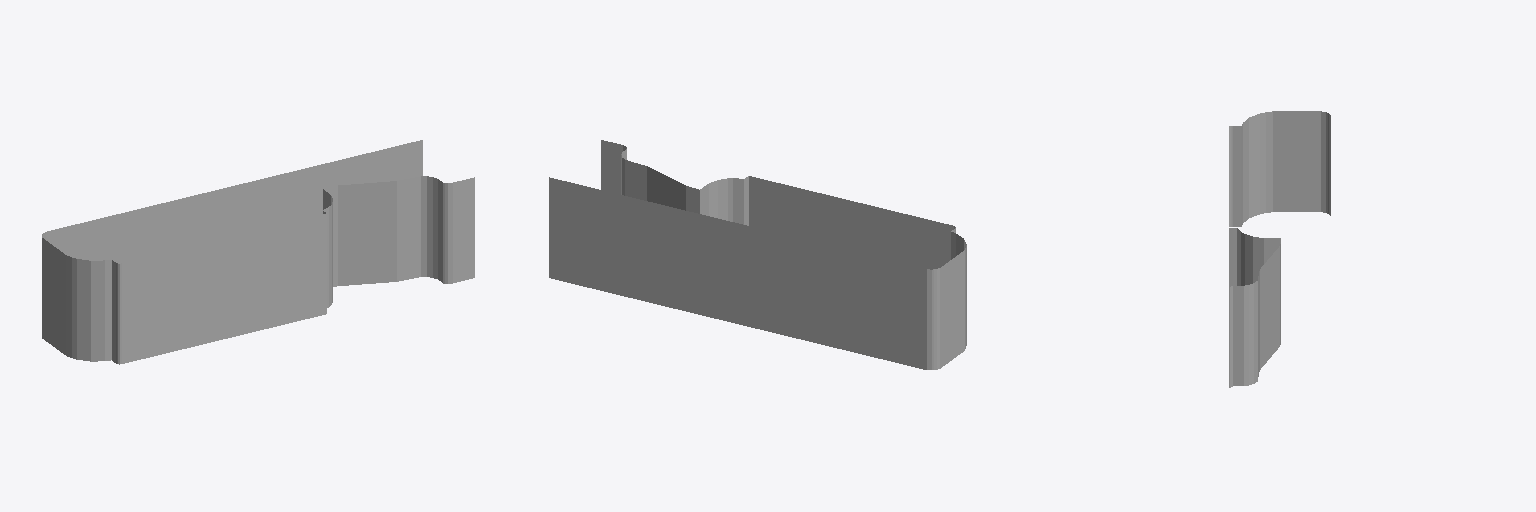
The model's file is original-73.obj.
3 renders of one model, left to right at view 1: azimuth 30°, elevation 25°; view 2: azimuth 150°, elevation 25°; view 3: azimuth 270°, elevation 25°, orthographic.
Parts seen in each view (by area): view 1: DF_11_CL2/DF_11_CL/mesh30/mesh30-geometry#mesh30-geometry; view 2: DF_11_CL2/DF_11_CL/mesh30/mesh30-geometry#mesh30-geometry; view 3: DF_11_CL2/DF_11_CL/mesh30/mesh30-geometry#mesh30-geometry.
Part boxes in pixels (bbox=[...]): DF_11_CL2/DF_11_CL/mesh30/mesh30-geometry#mesh30-geometry: bbox=[42, 140, 474, 364]; DF_11_CL2/DF_11_CL/mesh30/mesh30-geometry#mesh30-geometry: bbox=[549, 140, 966, 369]; DF_11_CL2/DF_11_CL/mesh30/mesh30-geometry#mesh30-geometry: bbox=[1229, 111, 1330, 387].
Size of the model in its own units: 0.1169 by 0.0292 by 0.027.